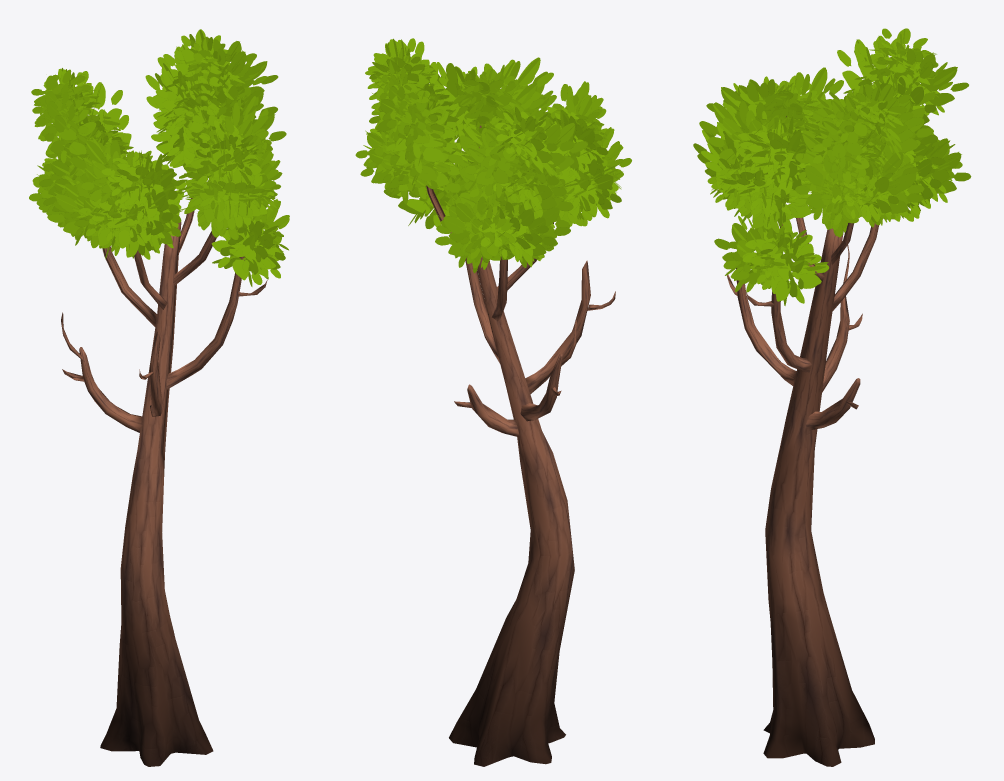
The model's file is CommonTree_4.glb.
3 views of the same model, side by side, from view 1: azimuth 30°, elevation 25°; view 2: azimuth 150°, elevation 25°; view 3: azimuth 270°, elevation 25° (orthographic). The views are drawn at different scales.
Size of the model in its own units: 3.83 by 9.44 by 3.76.
Materials: 2 (2 with a texture image).
